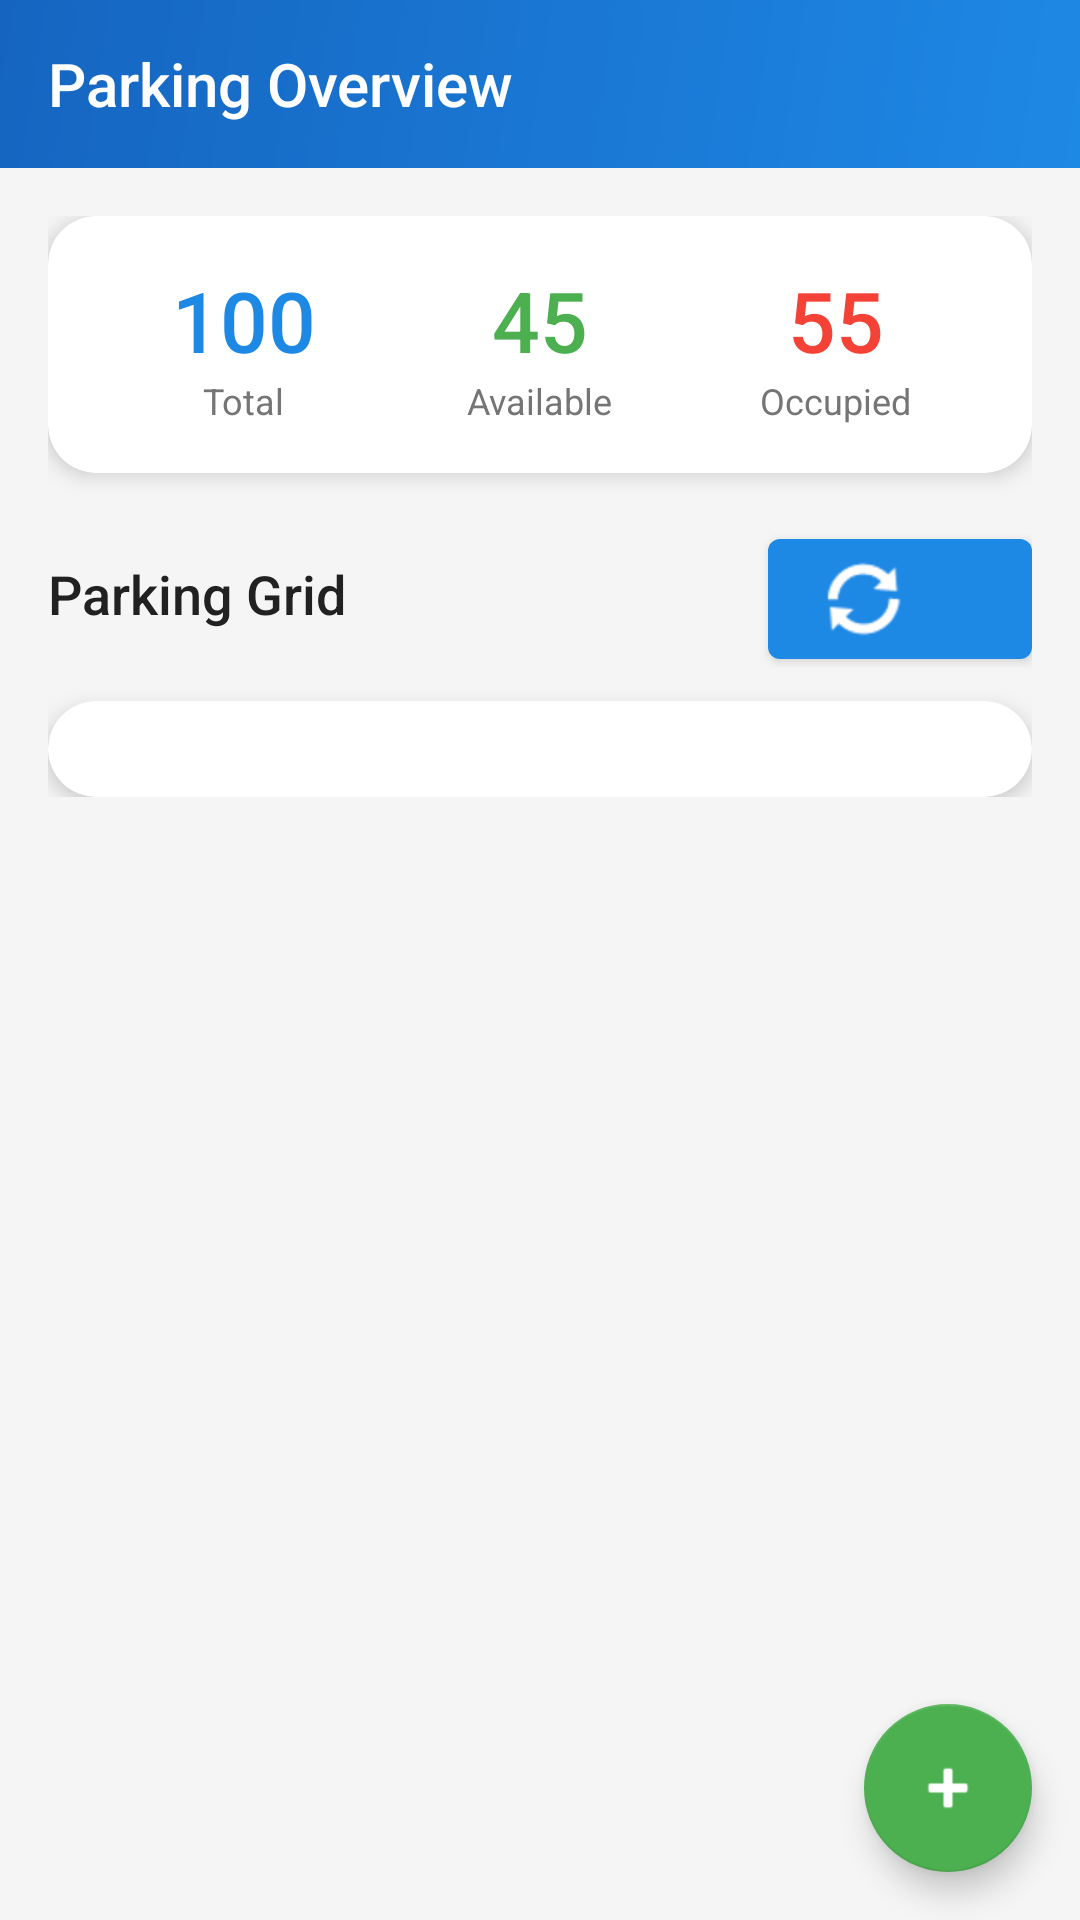

Locate icon controls on the screen. Image size 1080px×1920px, boxes as (x1, y1, x2, y2).
Add new spot: (864, 1704, 1032, 1872)
popup sync: (768, 539, 1032, 659)
